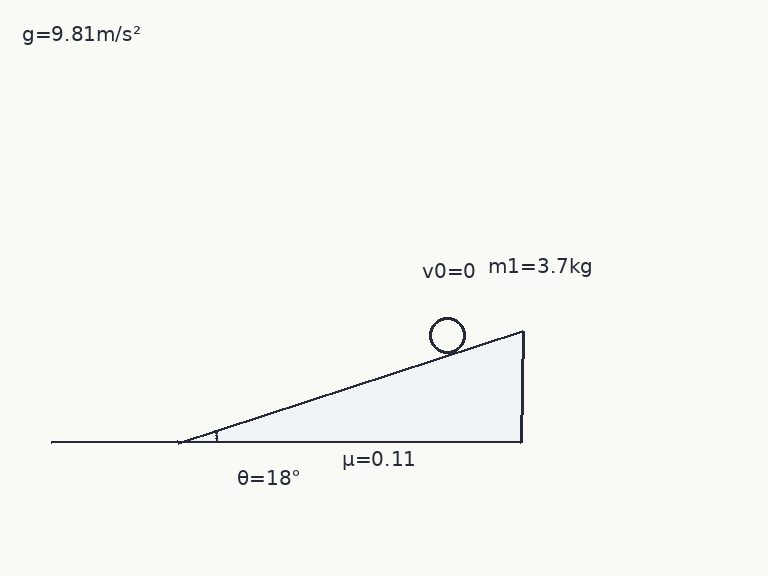ball: (427, 315, 467, 355)
ramp: (175, 328, 523, 444)
